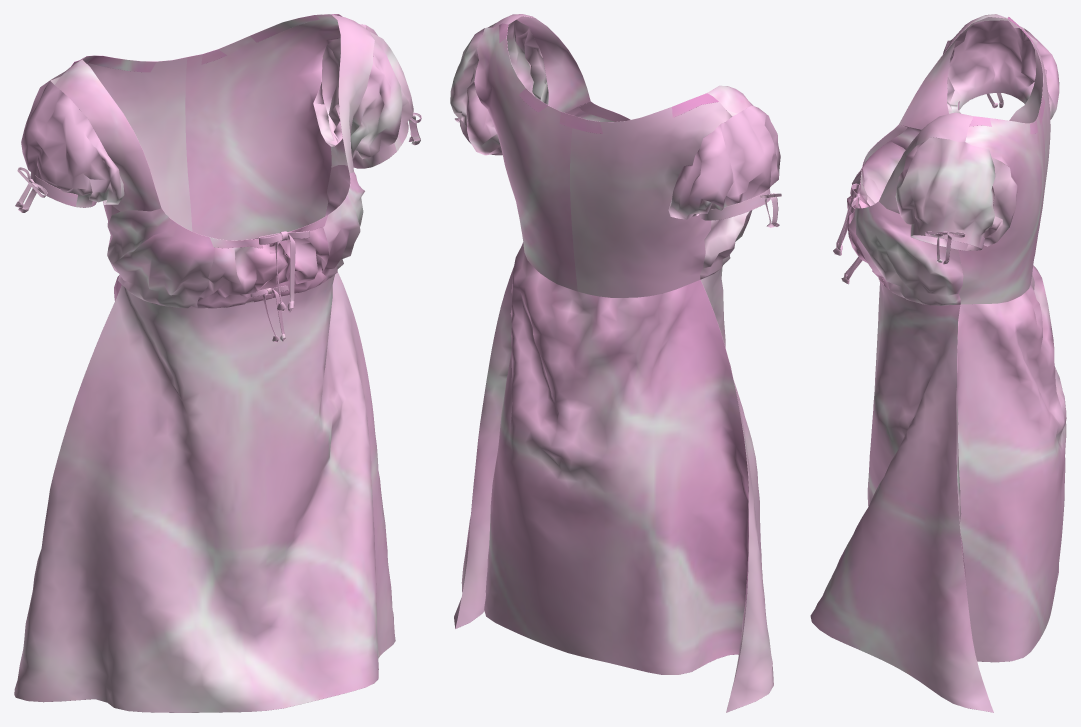
The model's file is asset01.glb.
3 renders of one model, left to right at view 1: azimuth 30°, elevation 25°; view 2: azimuth 150°, elevation 25°; view 3: azimuth 270°, elevation 25°, orthographic. The views are drawn at different scales.
Parts seen in each view (by area): view 1: Gelb; view 2: Gelb; view 3: Gelb.
Boxes of the visible parts, <box> form: Gelb: <box>14,14,421,712</box>; Gelb: <box>450,14,781,712</box>; Gelb: <box>810,14,1066,712</box>.
Bounding box in the file's own units: 4.89 × 8.1 × 3.25.
Materials: 1 (1 with a texture image).
